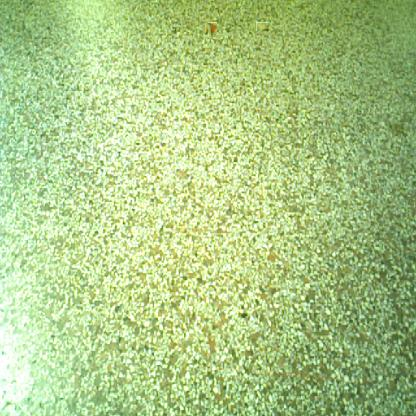dirty: (206, 24, 219, 36), (256, 22, 269, 31)
